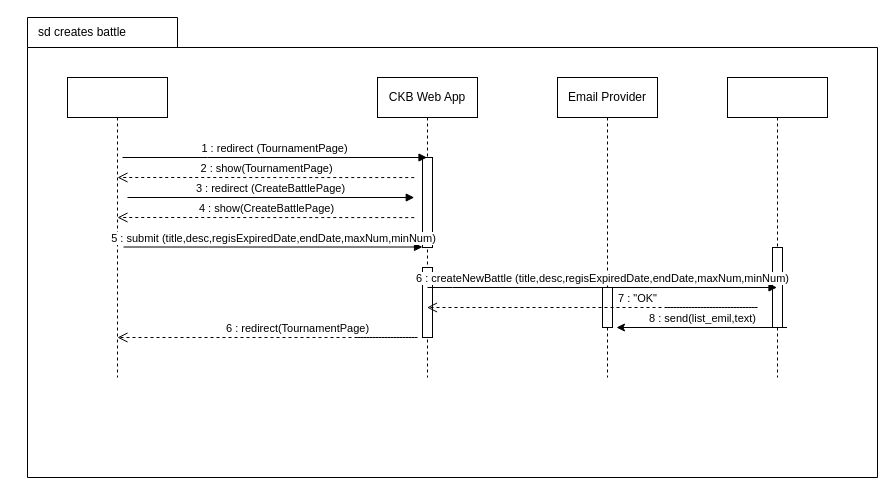
Image size: 895x495. Some labels were removed from this diagram. Here are the shapes that lost their labels. From the top down, the box of each, then its label:
(66, 76, 168, 378): Educator
(726, 76, 828, 378): System
